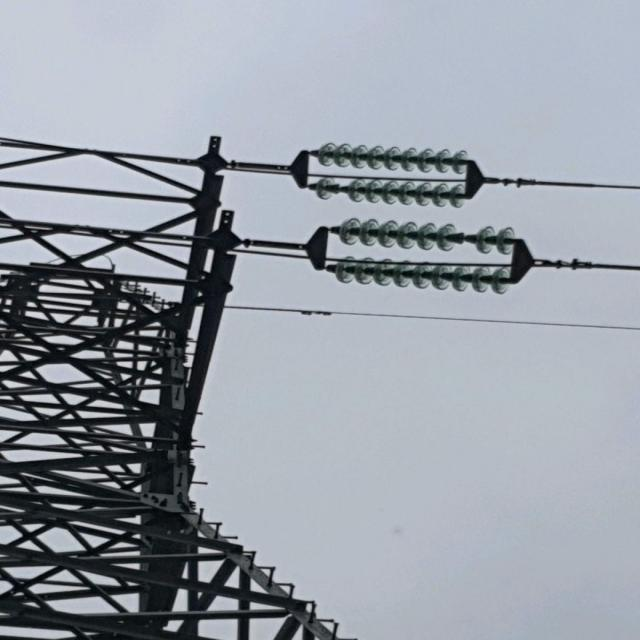杆塔: (0, 130, 353, 640)
正常绝缘子: (338, 217, 518, 256), (335, 257, 513, 295), (317, 142, 470, 174), (316, 177, 465, 208)
绝缘子破损: (457, 230, 478, 248), (331, 182, 345, 195)
